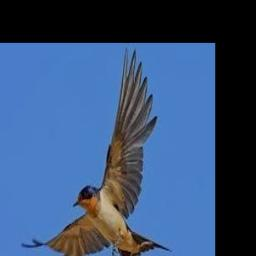Swallow: (22, 48, 173, 256)
